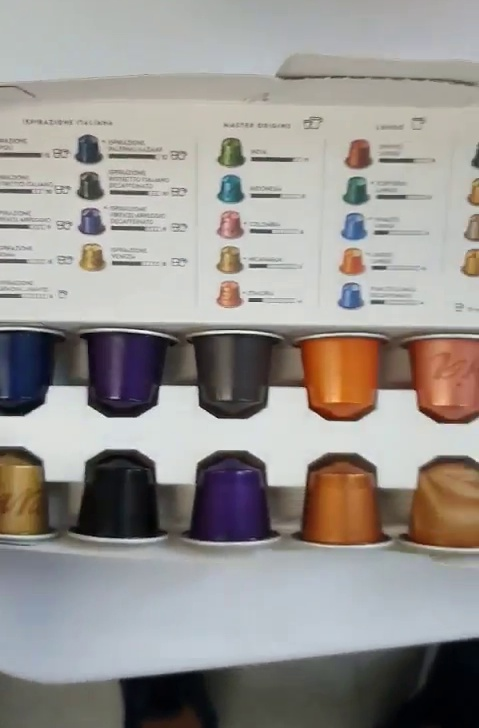capsule_2: (72, 326, 187, 415)
